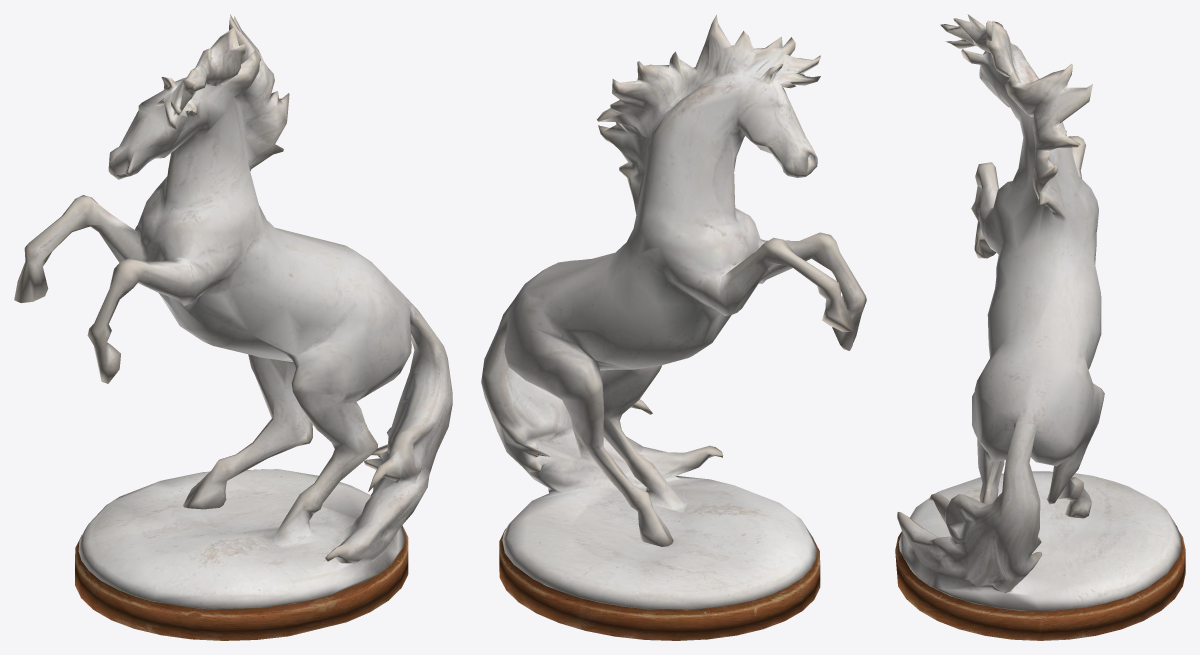
The model's file is horse_statue_01.glb.
The picture shows the model from 3 angles, left to right: view 1: azimuth 30°, elevation 25°; view 2: azimuth 150°, elevation 25°; view 3: azimuth 270°, elevation 25°; orthographic projection. The views are drawn at different scales.
Parts seen in each view (by area): view 1: horse_statue_01; view 2: horse_statue_01; view 3: horse_statue_01.
Part boxes in pixels (x1,y1,x2,y2): horse_statue_01: (14, 14, 452, 640); horse_statue_01: (481, 14, 866, 640); horse_statue_01: (895, 14, 1185, 640).
Size of the model in its own units: 0.1635 by 0.22 by 0.1078.
Materials: 1 (1 with a texture image).
